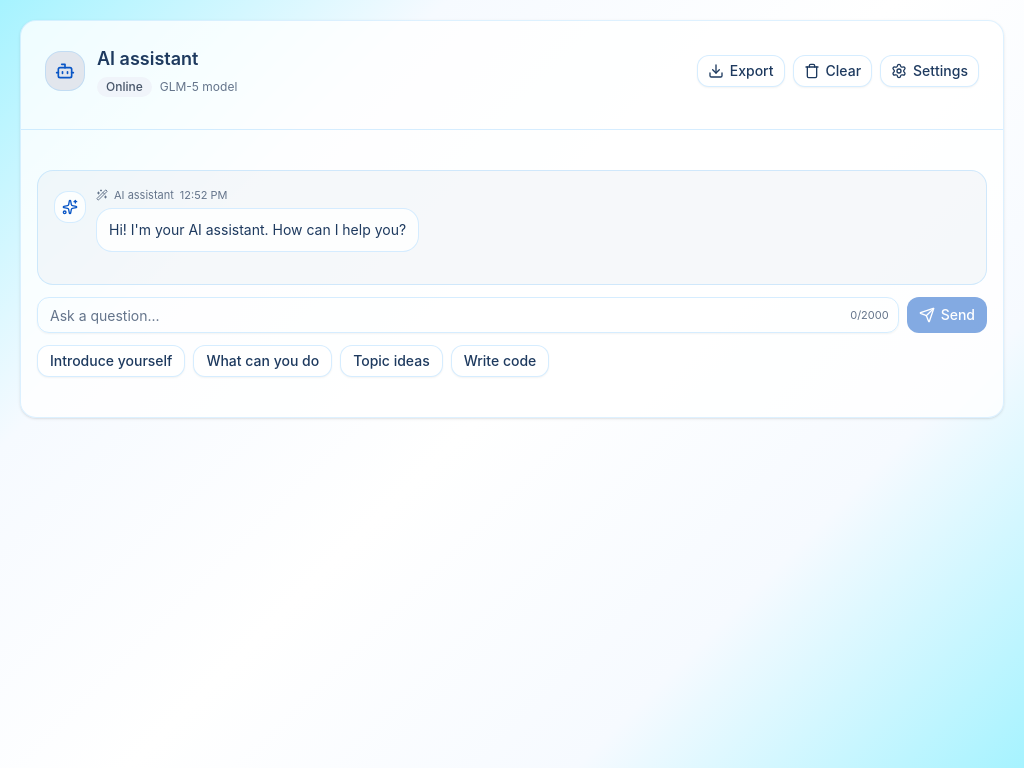
Test case: AiChatPage 英文界面 › 快捷提问填进输入框的是英文句子
Click the button "Write code" at coordinates (500, 361), box [451,345,549,377]
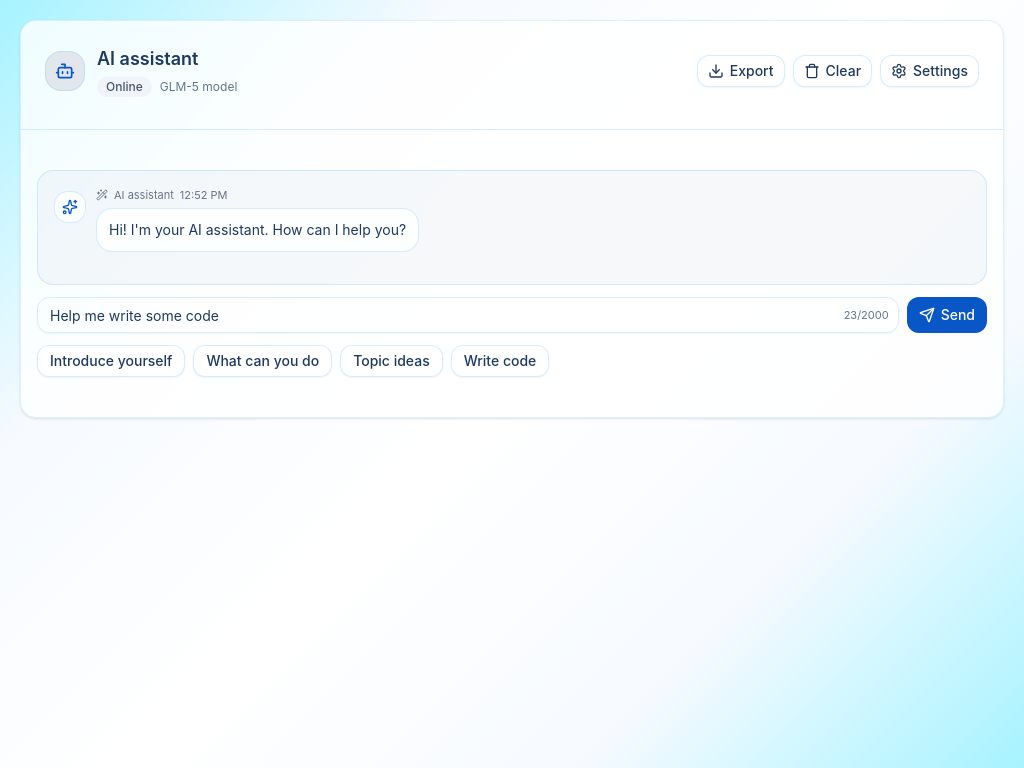
Now the field with placeholder "Ask a question..." holds "Help me write some code", box [37,297,899,333]
